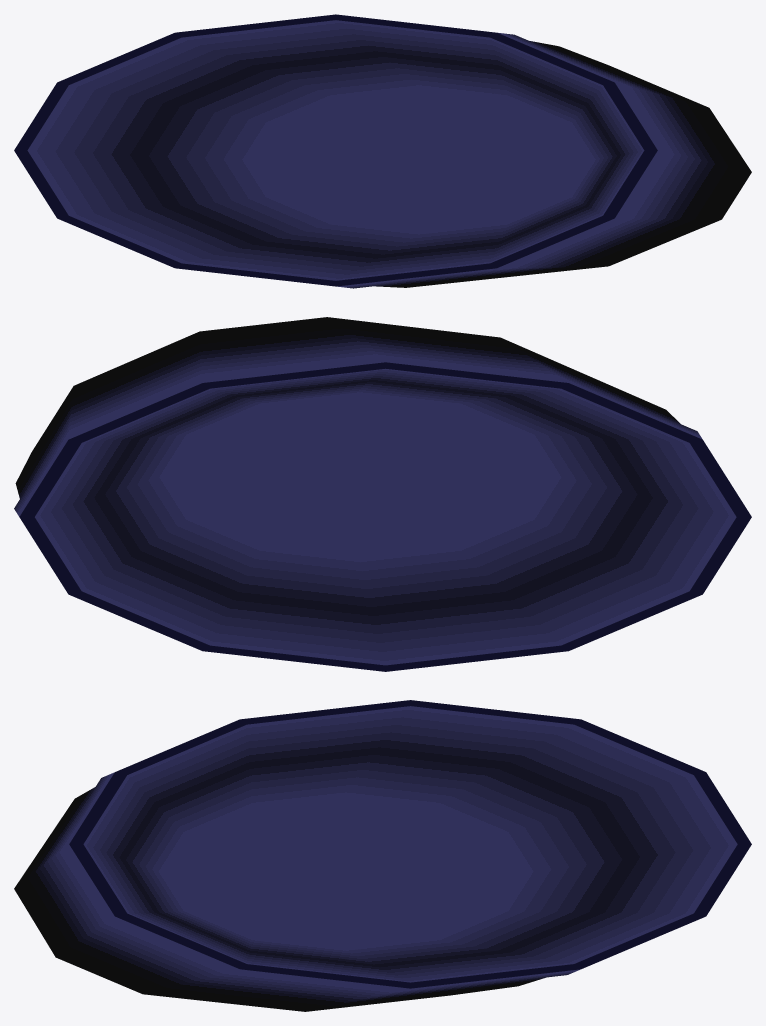
3 renders of one model, top to bottom at view 1: azimuth 30°, elevation 25°; view 2: azimuth 150°, elevation 25°; view 3: azimuth 270°, elevation 25°, orthographic. The views are drawn at different scales.
Visible parts, largest first — view 1: Joint_0_Object_0; view 2: Joint_0_Object_0; view 3: Joint_0_Object_0.
Boxes of the visible parts, left/top/right/bottom form: Joint_0_Object_0: left=14, top=14, right=751, bottom=288; Joint_0_Object_0: left=14, top=317, right=751, bottom=671; Joint_0_Object_0: left=14, top=700, right=751, bottom=1011.
Bounding box in the file's own units: 549 × 0 × 549.
Materials: 1 (1 with a texture image).
